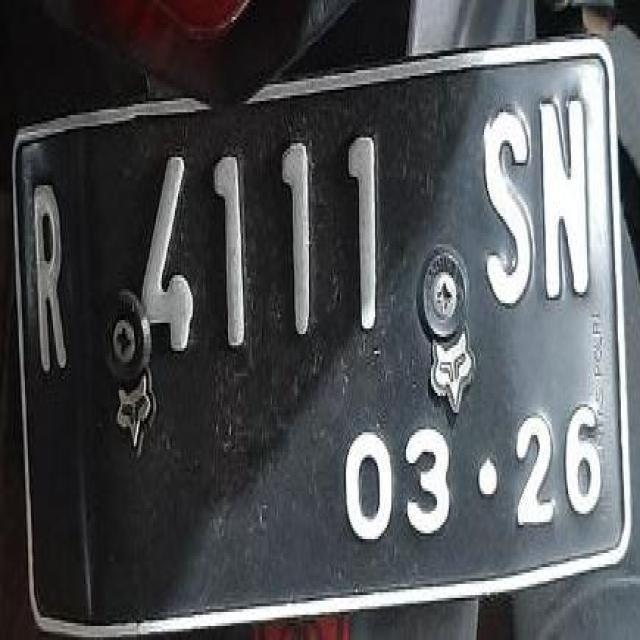1: (205, 148, 252, 352), (340, 123, 384, 340), (277, 129, 316, 340)
4: (134, 143, 197, 359)
R: (28, 177, 71, 368)
S: (475, 92, 537, 318), (535, 87, 593, 320)
